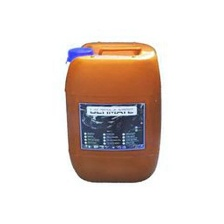cleaning_solution: (61, 31, 163, 187)
